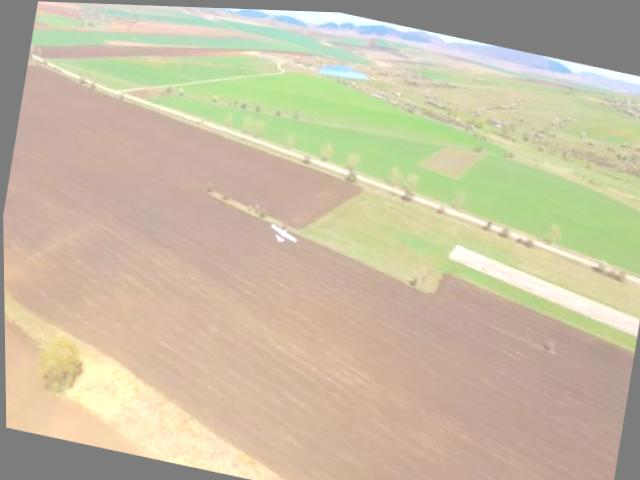uav: (263, 213, 301, 251)
